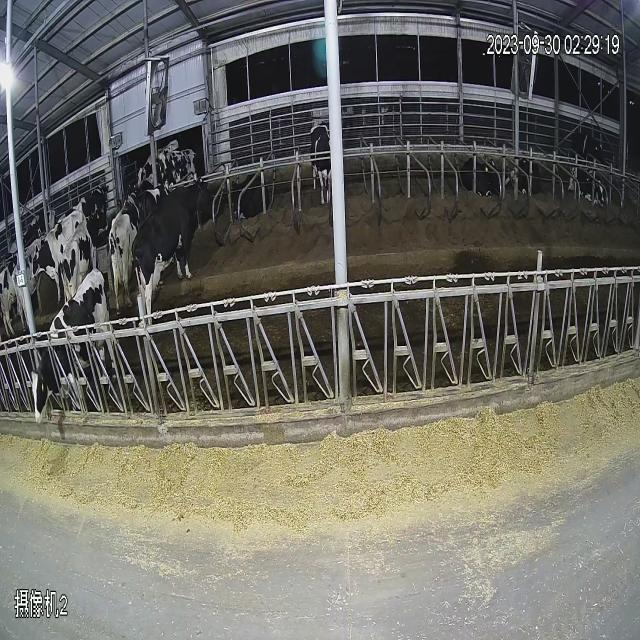feeding: (30, 264, 110, 431)
lying down: (222, 155, 272, 234), (564, 153, 614, 222), (455, 143, 502, 210), (506, 146, 548, 212)
standing: (129, 176, 218, 358), (296, 111, 356, 234), (56, 196, 114, 304)
